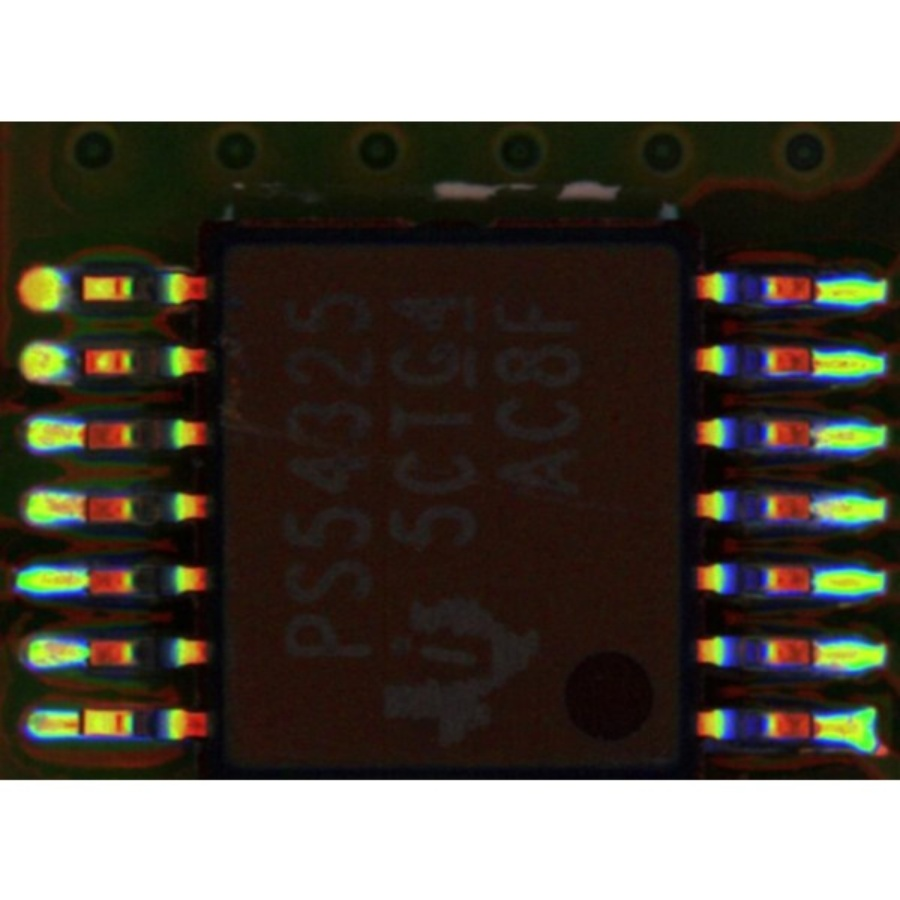Bad_podu: (791, 717, 842, 735), (800, 353, 839, 375), (66, 712, 92, 736), (69, 500, 101, 514)
